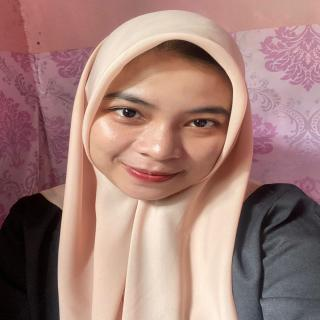Senang: (82, 39, 236, 208)
